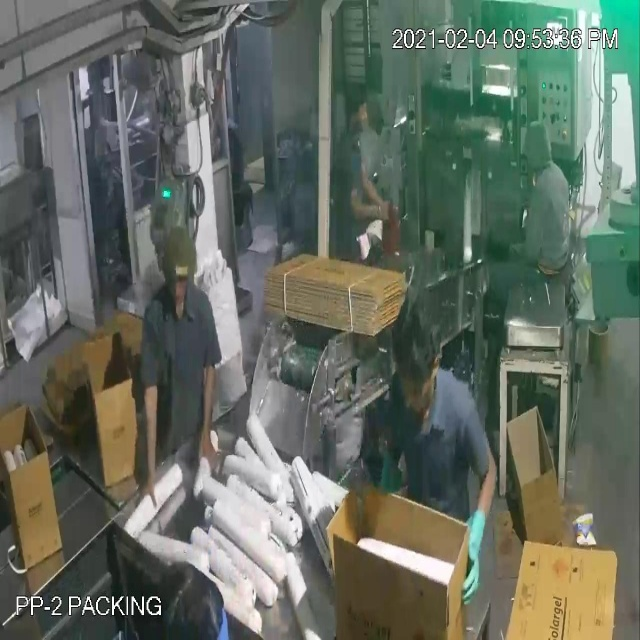Guantes: (458, 499, 486, 616), (365, 434, 405, 503)
Sin_guantes: (136, 367, 165, 524), (197, 346, 220, 486), (348, 176, 396, 235), (360, 154, 400, 212)
